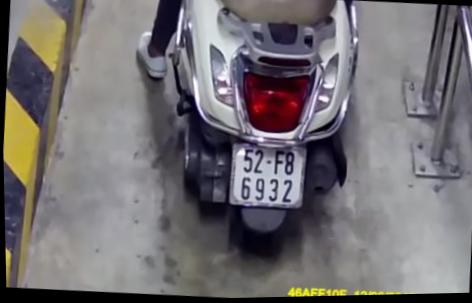LP: (227, 142, 307, 210)
